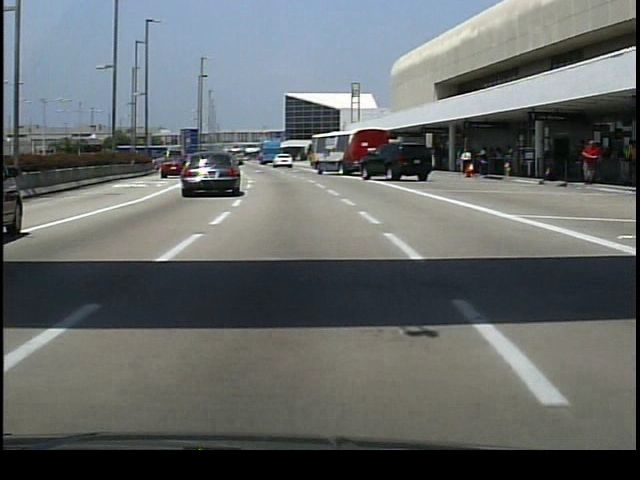person: (579, 137, 605, 187), (459, 146, 475, 180)
